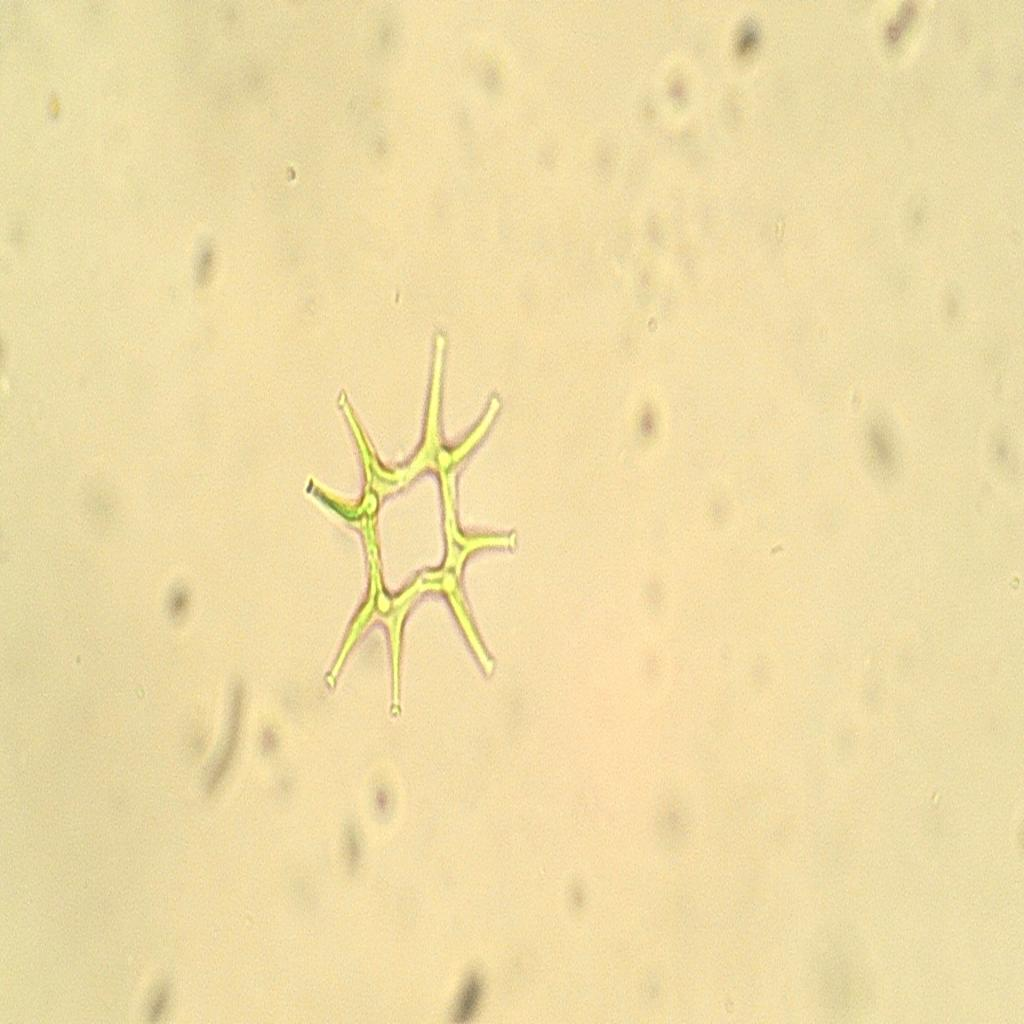Pediastrum_CO: (299, 308, 536, 730)
